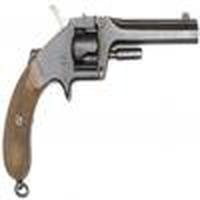gun: (3, 10, 200, 184)
